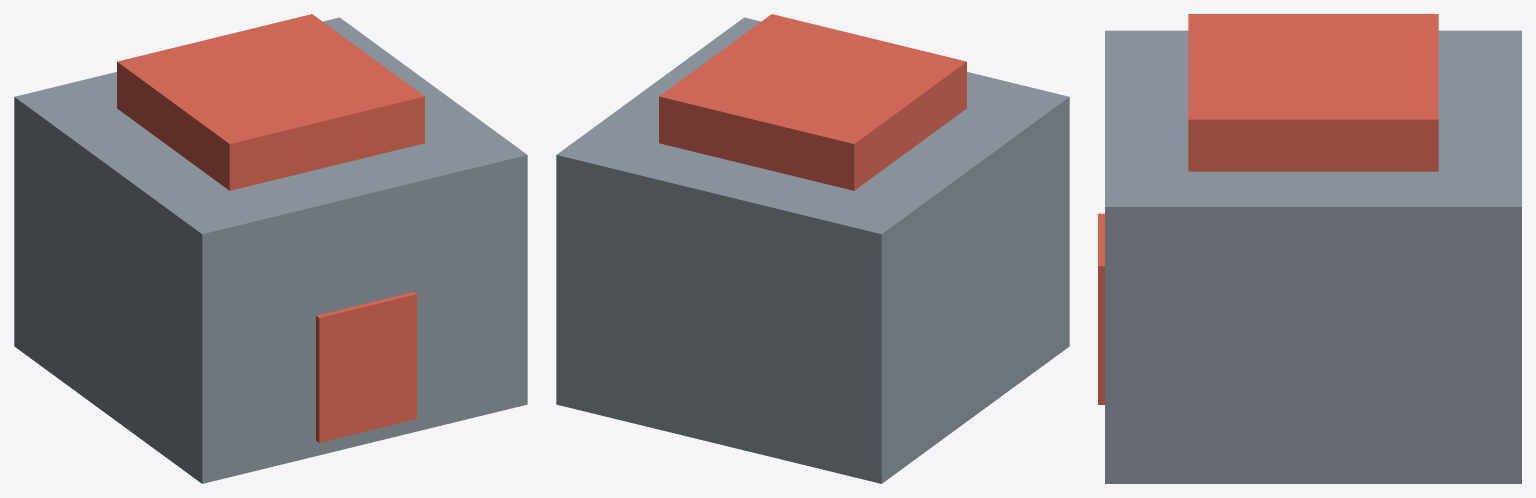
The model's file is SM_Soviet_SU_TechCenter_Blockout.fbx.
The picture shows the model from 3 angles, left to right: view 1: azimuth 30°, elevation 25°; view 2: azimuth 150°, elevation 25°; view 3: azimuth 270°, elevation 25°; orthographic projection. The views are drawn at different scales.
Visible parts, largest first — view 1: MainBuilding, RoofStructure, EntranceGate; view 2: MainBuilding, RoofStructure; view 3: MainBuilding, RoofStructure, EntranceGate.
Part boxes in pixels (x1,y1,x2,y2): MainBuilding: (14,17,527,483); RoofStructure: (117,14,424,190); EntranceGate: (316,292,416,442); MainBuilding: (556,17,1069,483); RoofStructure: (659,14,966,190); MainBuilding: (1105,30,1521,483); RoofStructure: (1188,14,1438,171); EntranceGate: (1098,213,1104,404).
Size of the model in its own units: 600 by 523 by 610.
